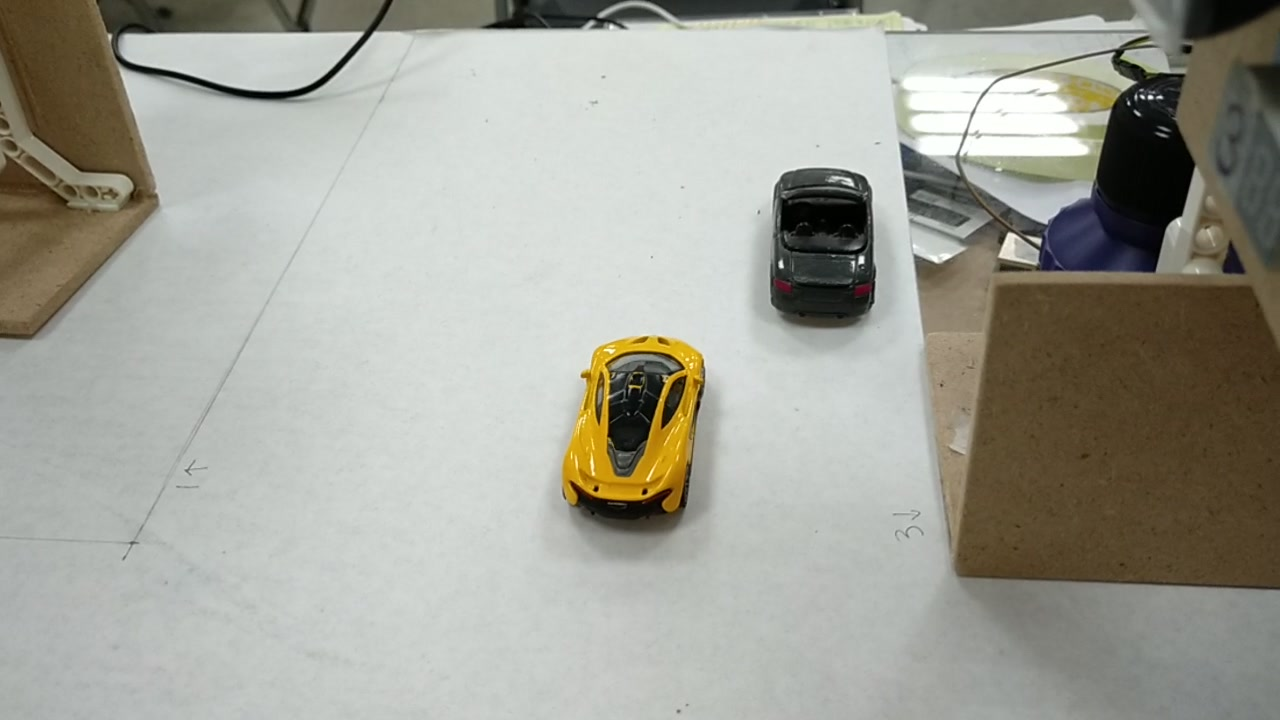car: (566, 332, 706, 513), (775, 171, 871, 299)
